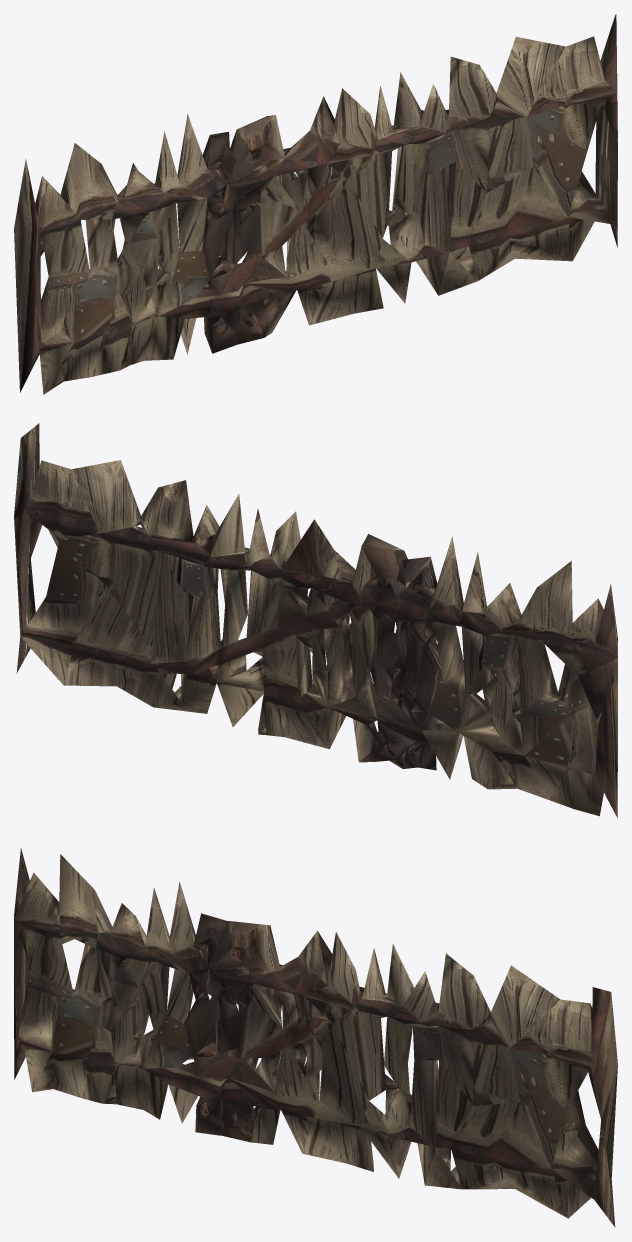
Rendered from palisade_a.glb.
3 views of the same model, one above another, from view 1: azimuth 30°, elevation 25°; view 2: azimuth 150°, elevation 25°; view 3: azimuth 330°, elevation 25° (orthographic).
Visible parts, largest first — view 1: mesh_node; view 2: mesh_node; view 3: mesh_node.
Part boxes in pixels (bbox=[...]): mesh_node: bbox=[14, 14, 617, 394]; mesh_node: bbox=[14, 423, 617, 817]; mesh_node: bbox=[14, 848, 617, 1227].
Size of the model in its own units: 1.88 by 0.7415 by 0.1075.
Materials: 1 (1 with a texture image).
